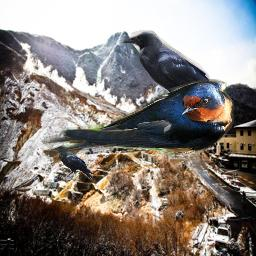Crow: (122, 30, 227, 118), (52, 145, 93, 180)
Swallow: (42, 79, 234, 156)
